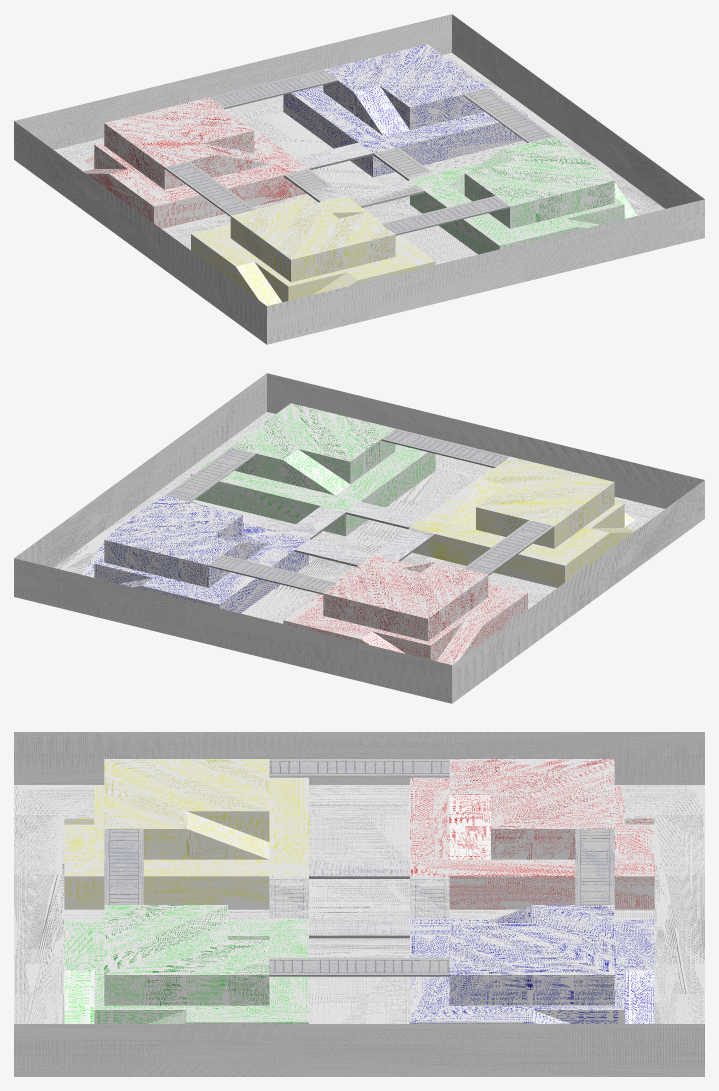
3 views of the same model, one above another, from view 1: azimuth 30°, elevation 25°; view 2: azimuth 150°, elevation 25°; view 3: azimuth 270°, elevation 25° (orthographic). The views are drawn at different scales.
Visible parts, largest first — view 1: ske8815 (×35), image_3, image_1; view 2: ske8815 (×35); view 3: ske8815 (×35), image_2, image_0, image_1, image_3.
Part boxes in pixels (<box>): ske8815 (×35): <box>14,14,704,344</box>; image_3: <box>373,147,432,179</box>; image_1: <box>284,169,340,201</box>; ske8815 (×35): <box>14,373,704,703</box>; ske8815 (×35): <box>14,732,704,1076</box>; image_2: <box>269,877,308,918</box>; image_0: <box>410,877,449,918</box>; image_1: <box>309,859,409,876</box>; image_3: <box>309,919,409,935</box>.
Size of the model in its own units: 5828 by 5828 by 903.
